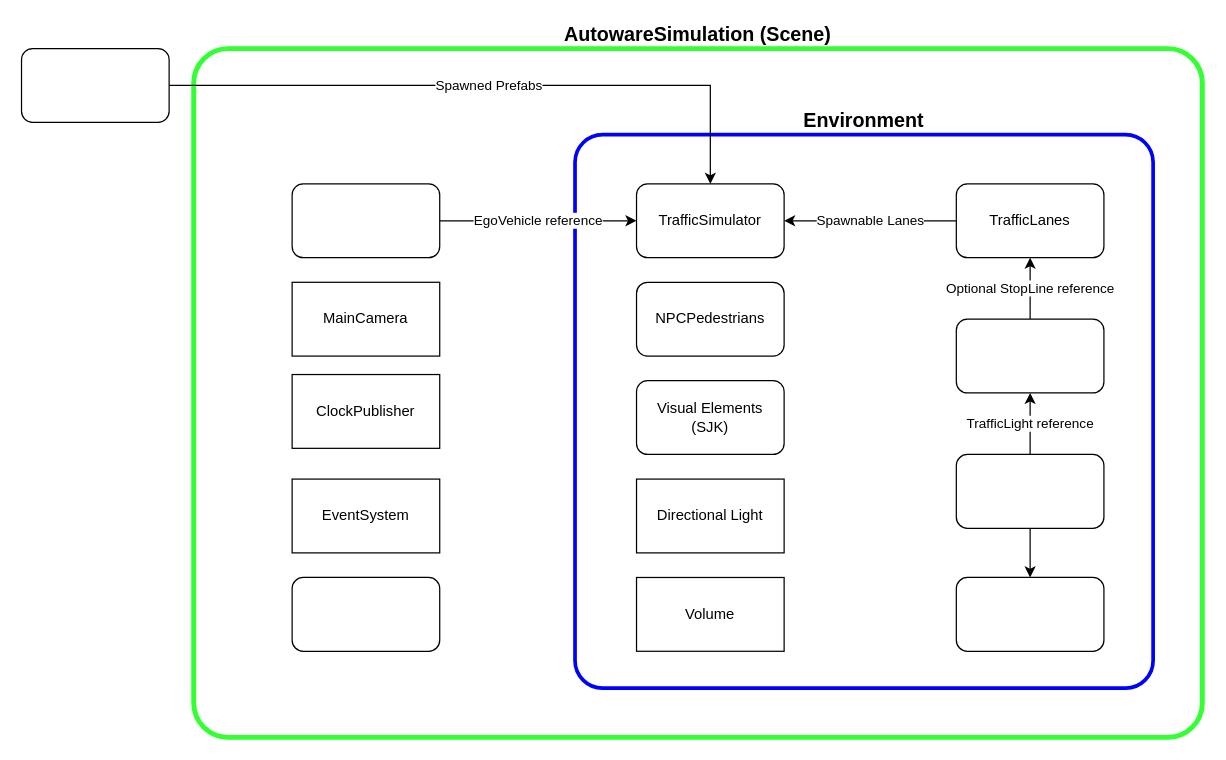
Image size: 1226x760. Some labels were removed from this diagram. The centre of each missing label's shape, as x and y in pixels:
"Canvas" goes at (x=365, y=613).
"EgoVehicle" goes at (x=365, y=220).
"NPCVehicles" goes at (x=94, y=84).
"StopLines" goes at (x=1029, y=355).
"TrafficIntersections" goes at (x=1029, y=613).
"TrafficLights" goes at (x=1029, y=490).
